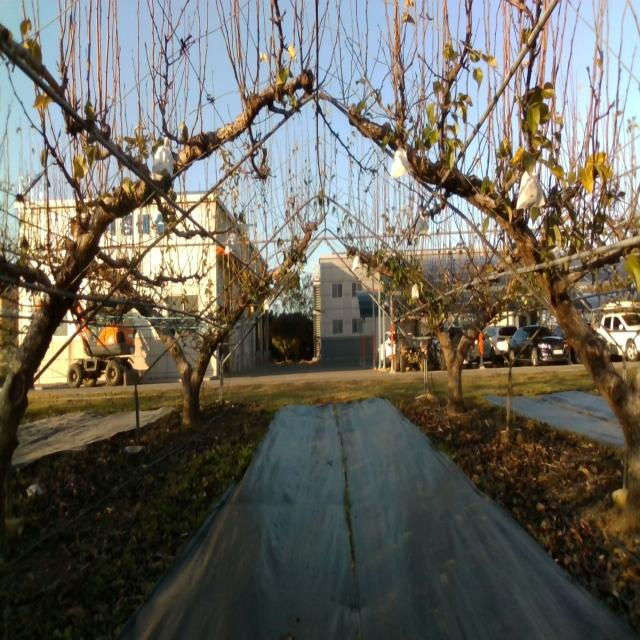pearbags: (516, 171, 546, 209), (152, 145, 174, 181), (389, 146, 411, 180), (414, 209, 431, 240), (224, 231, 240, 255)
